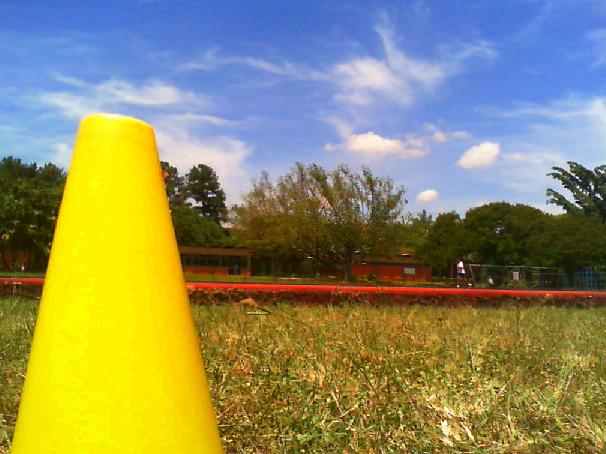0 cone: (9, 113, 227, 454)
